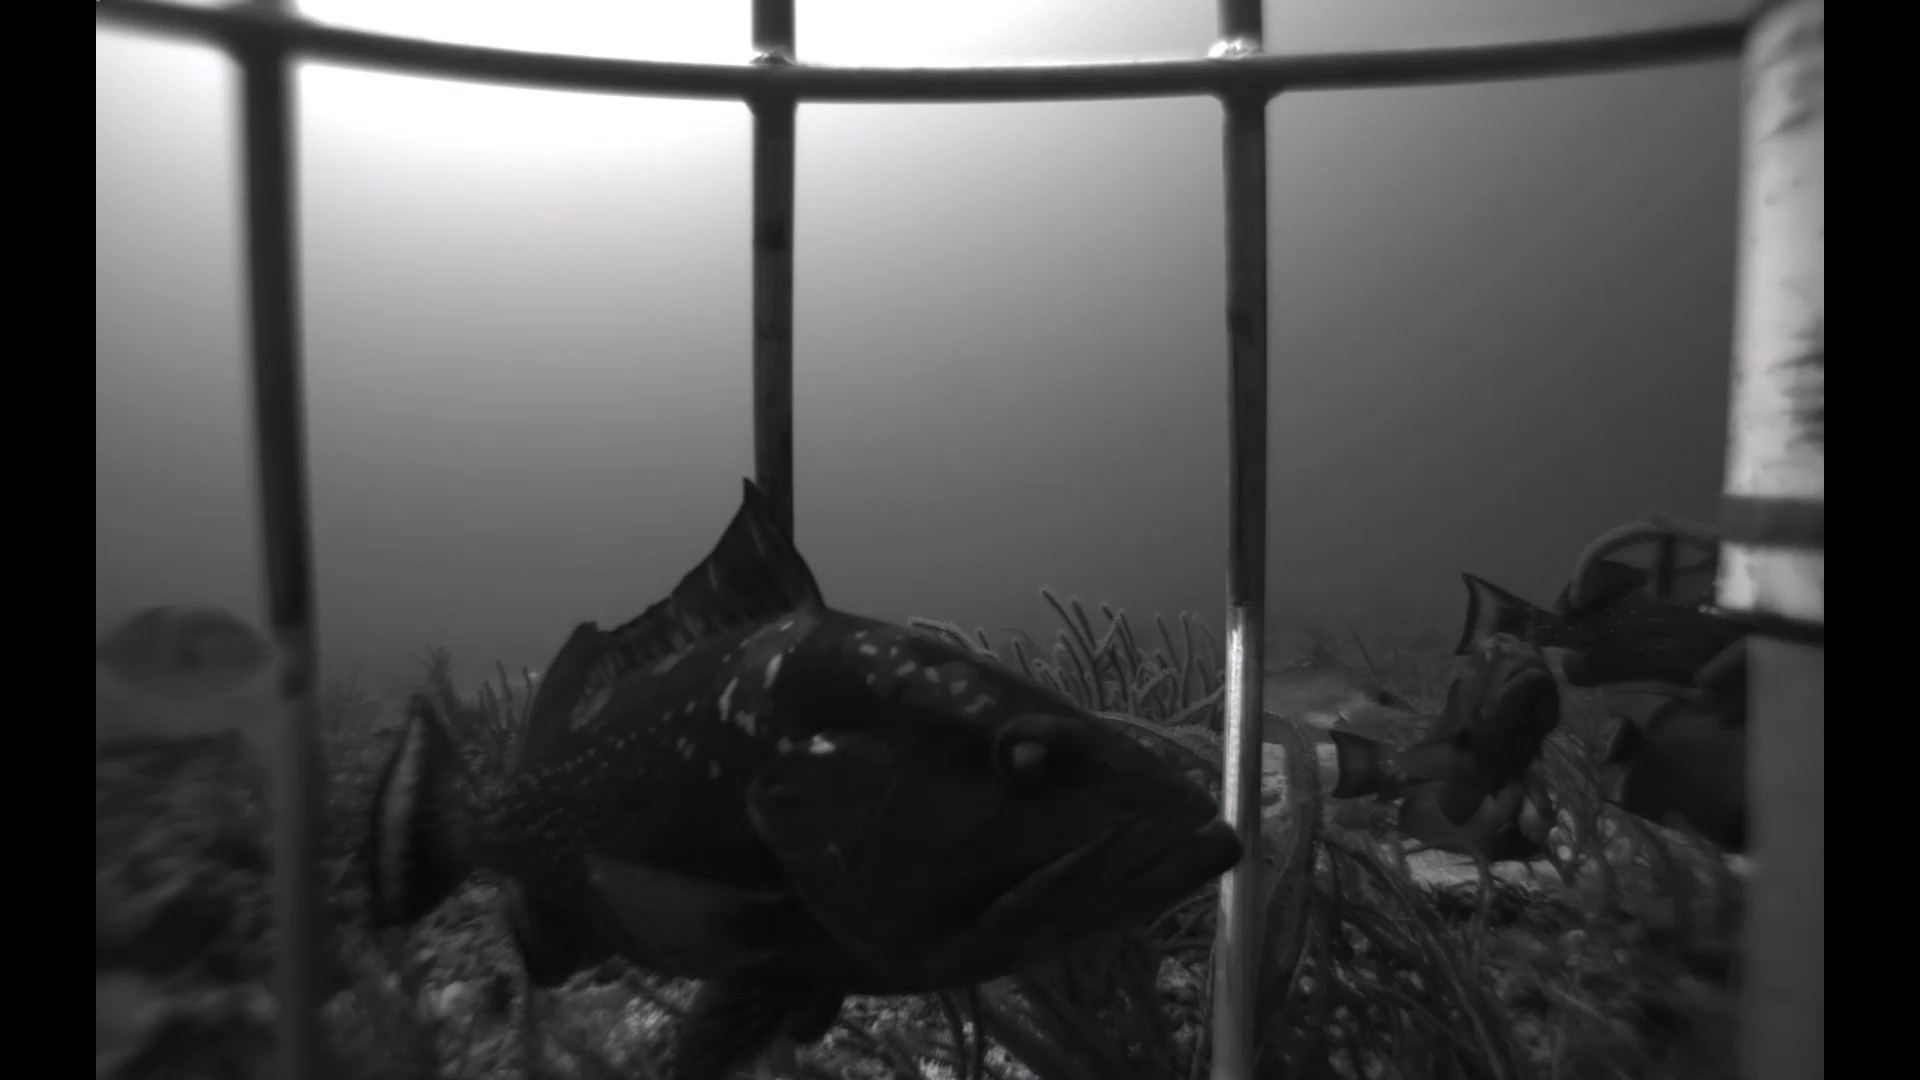BALISTESCAPRISCUS-189030502: (94, 593, 276, 716)
CALAMUSNODOSUS-170210608: (992, 632, 1067, 679)
EPINEPHELUSMORIO-170021211: (351, 450, 1261, 1080), (1451, 516, 1738, 713), (1313, 617, 1563, 814)
LUTJANUSGRISEUS-170151109: (1251, 646, 1429, 741)
POMACANTHUSARCUATUS-170290201: (1593, 658, 1749, 858), (1367, 737, 1571, 872)
